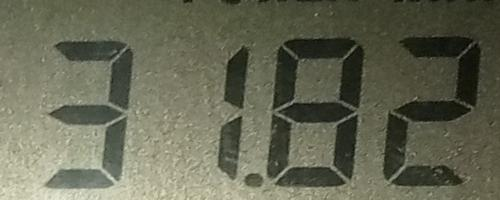.: (243, 168, 266, 192)
